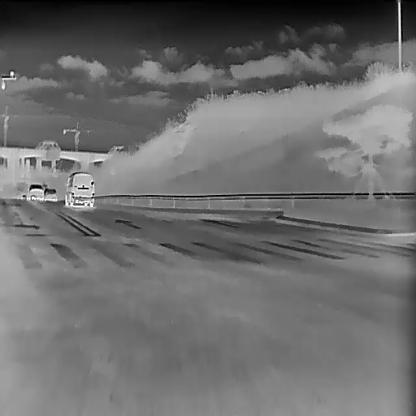car: (65, 171, 95, 207), (26, 184, 43, 202), (43, 187, 56, 201)
